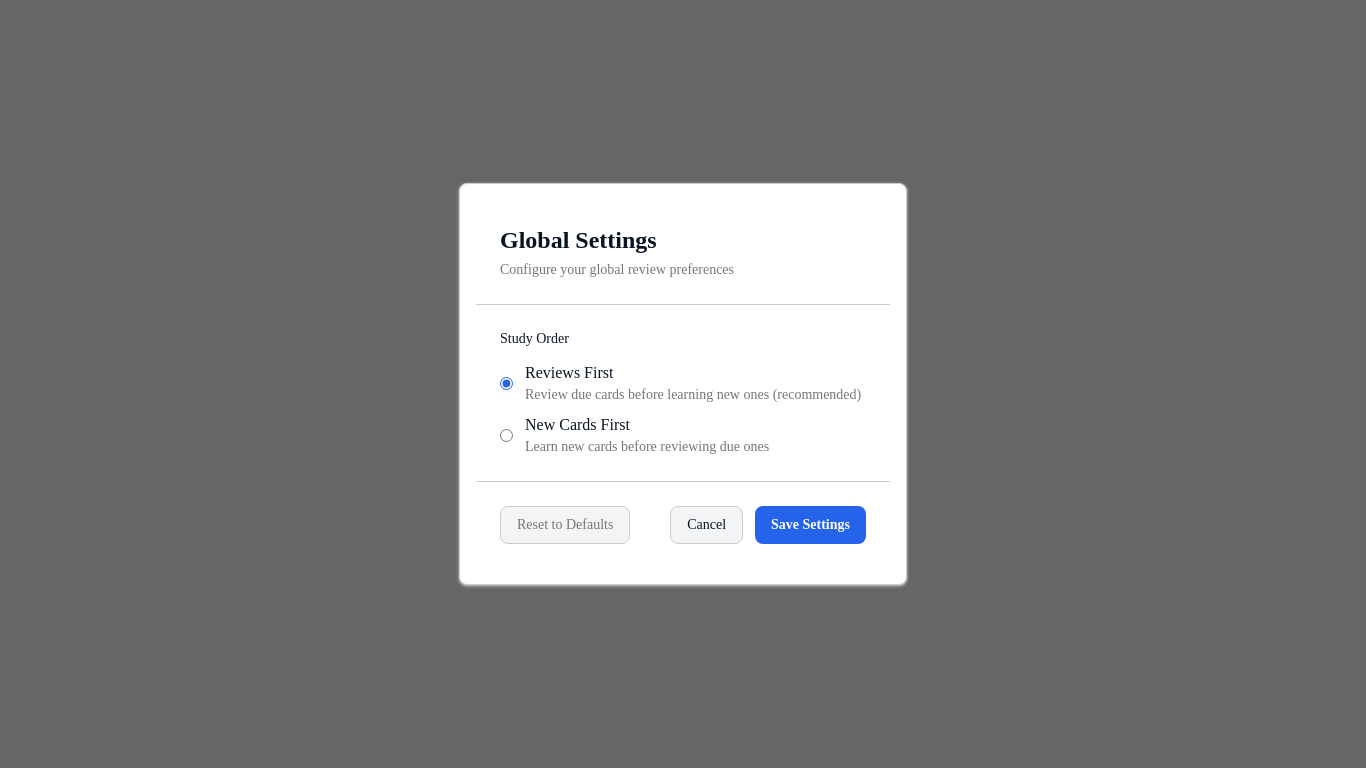
GlobalSettings › should disable buttons while saving
Expected: the text "Study Order" is shown, [500, 331, 569, 346]
Click the button "Save Settings": [810, 525] box [755, 506, 866, 544]
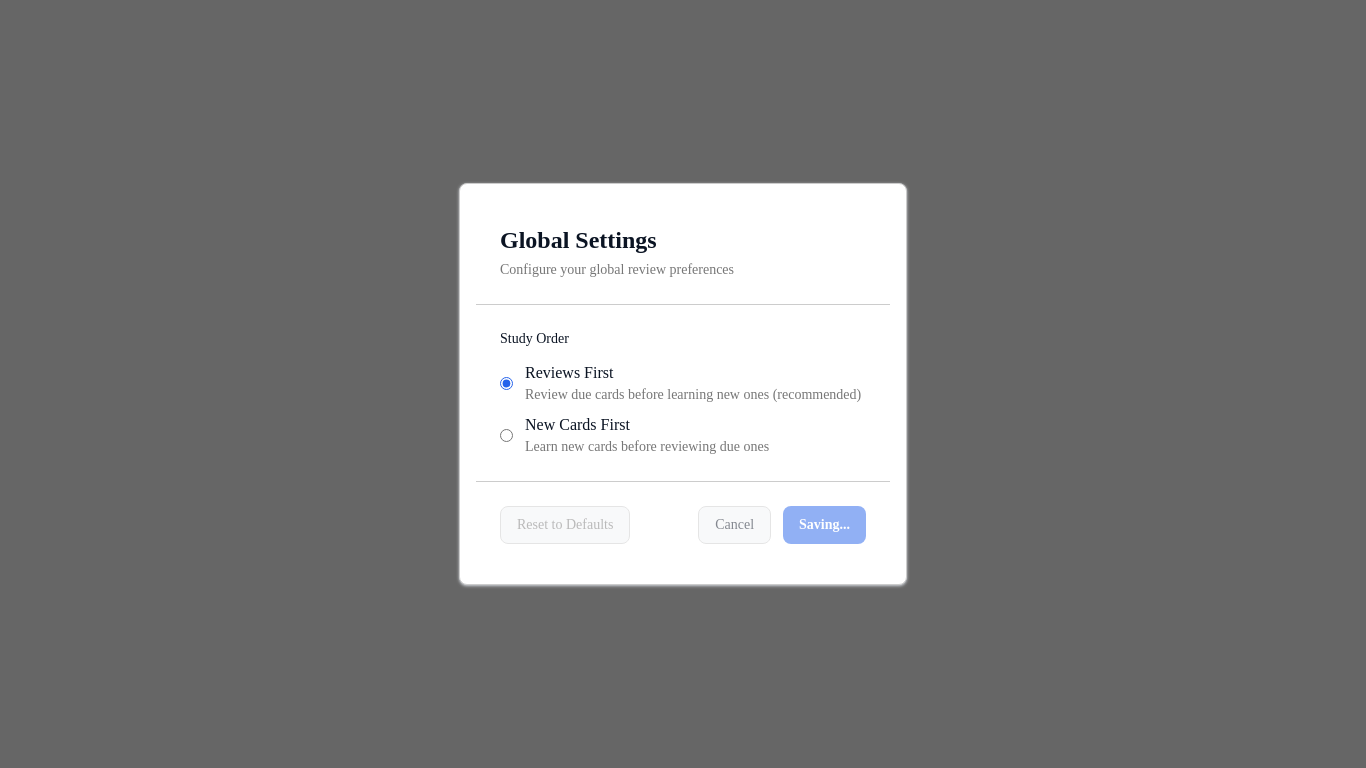
Expected: the button "Saving..." is shown, [783, 506, 866, 544]
Expected: the button "Cancel" is disabled, [698, 506, 771, 544]
Expected: the button "Reset to Defaults" is disabled, [500, 506, 630, 544]
